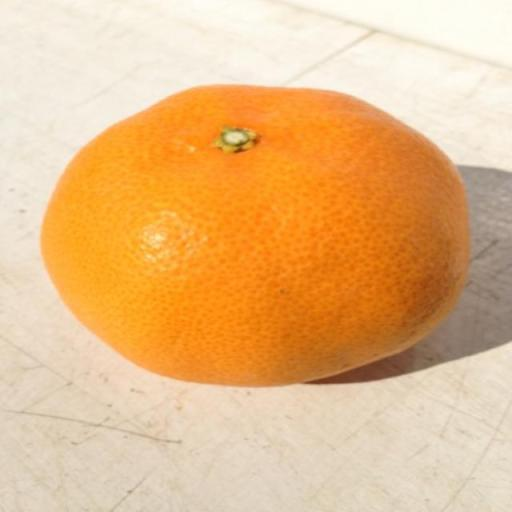fruit: (41, 86, 467, 384)
